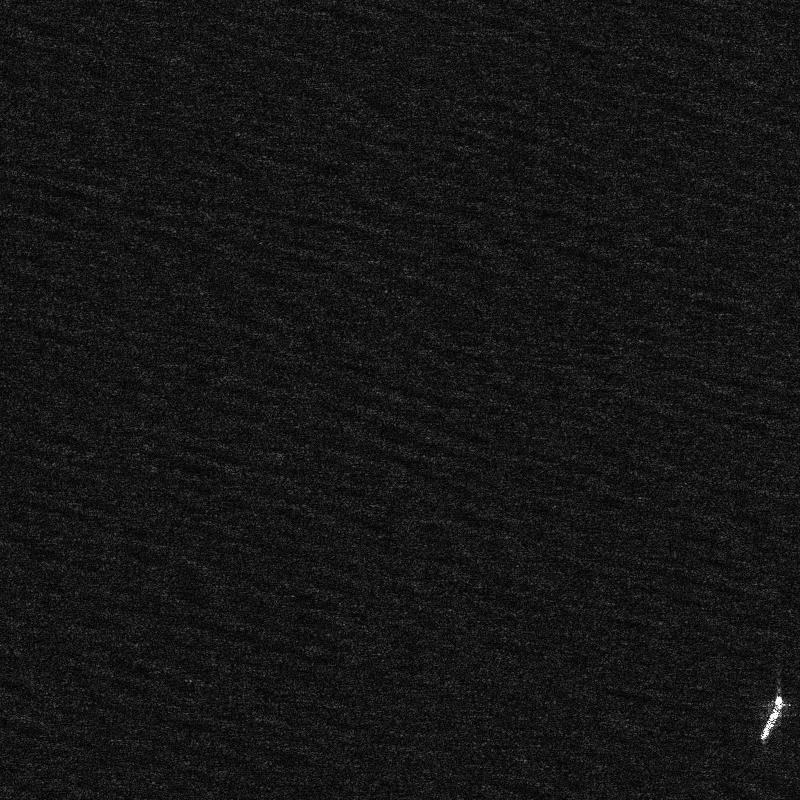ship: (761, 696, 783, 740)
